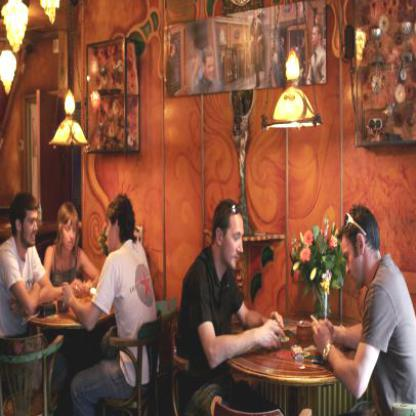person: (332, 197, 415, 413), (90, 188, 160, 390), (172, 198, 256, 359), (0, 194, 53, 350), (44, 202, 90, 292)
